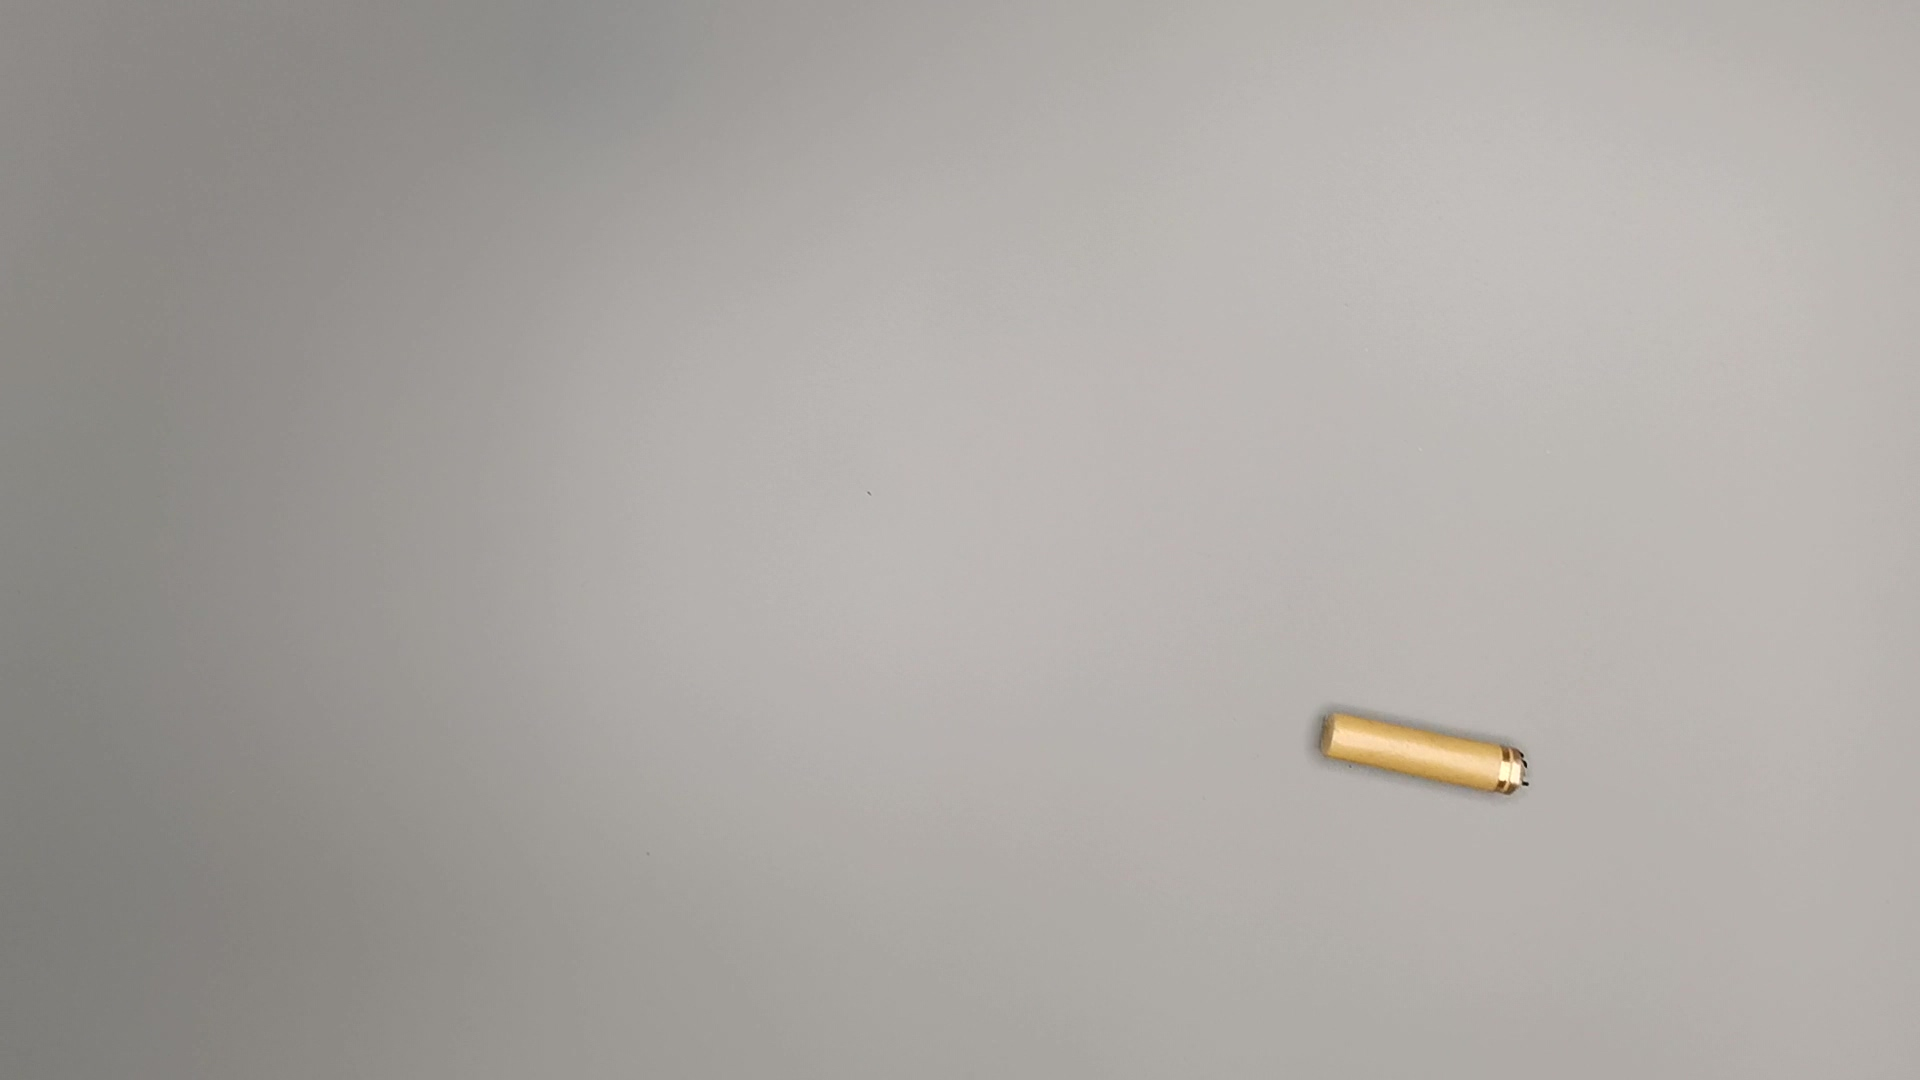cigarette: (1309, 704, 1544, 800)
